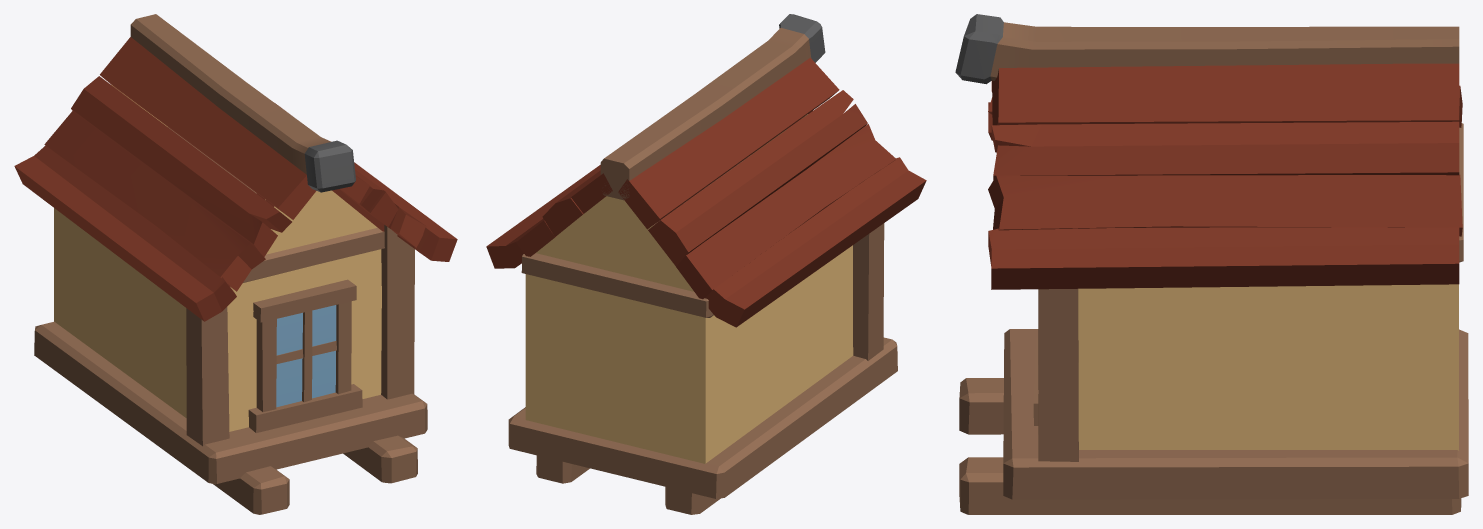
File: House_2Floor_Side_G.fbx
The picture shows the model from 3 angles, left to right: view 1: azimuth 30°, elevation 25°; view 2: azimuth 150°, elevation 25°; view 3: azimuth 270°, elevation 25°; orthographic projection. The views are drawn at different scales.
Visible parts, largest first — view 1: House_2Floor_Side_G; view 2: House_2Floor_Side_G; view 3: House_2Floor_Side_G.
Boxes of the visible parts, x1=… form: House_2Floor_Side_G: x1=14, y1=14, x2=457, y2=514; House_2Floor_Side_G: x1=486, y1=14, x2=926, y2=514; House_2Floor_Side_G: x1=955, y1=14, x2=1468, y2=514.
Size of the model in its own units: 150 by 189 by 198.
